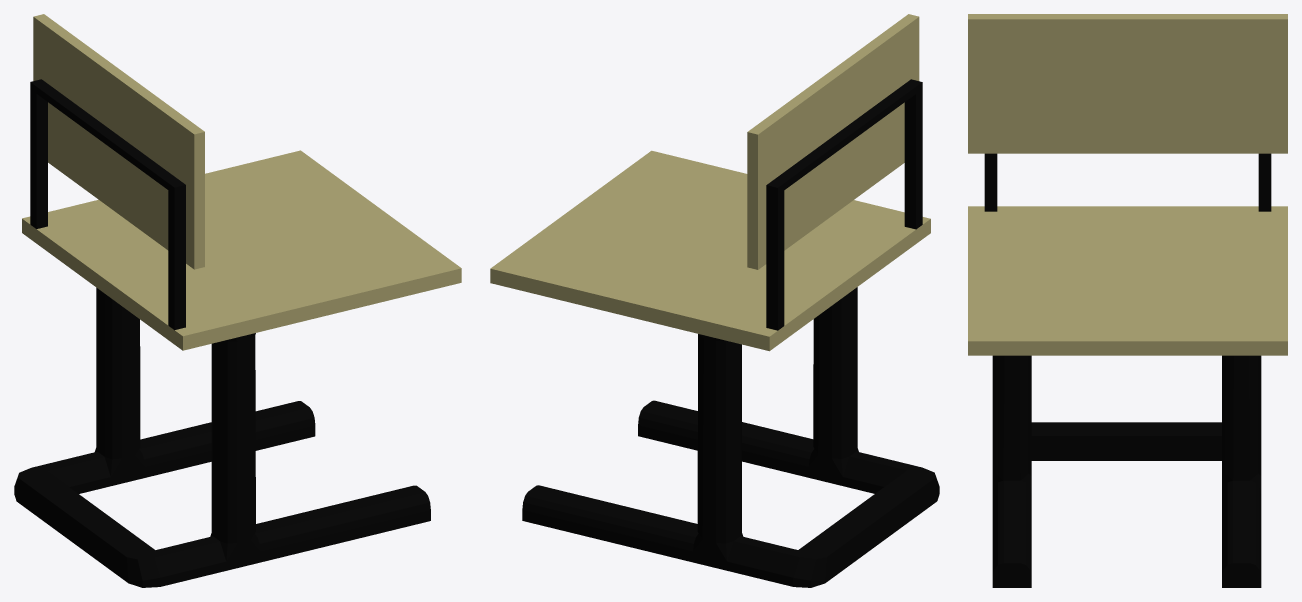
File: classroom_chair.glb
The picture shows the model from 3 angles, left to right: view 1: azimuth 30°, elevation 25°; view 2: azimuth 150°, elevation 25°; view 3: azimuth 270°, elevation 25°; orthographic projection.
Parts seen in each view (by area): view 1: Cube.002; view 2: Cube.002; view 3: Cube.002.
Part boxes in pixels (x1,y1,x2,y2): Cube.002: (14,14,461,587); Cube.002: (490,14,939,587); Cube.002: (968,14,1287,587).
Size of the model in its own units: 215 by 303 by 194.
